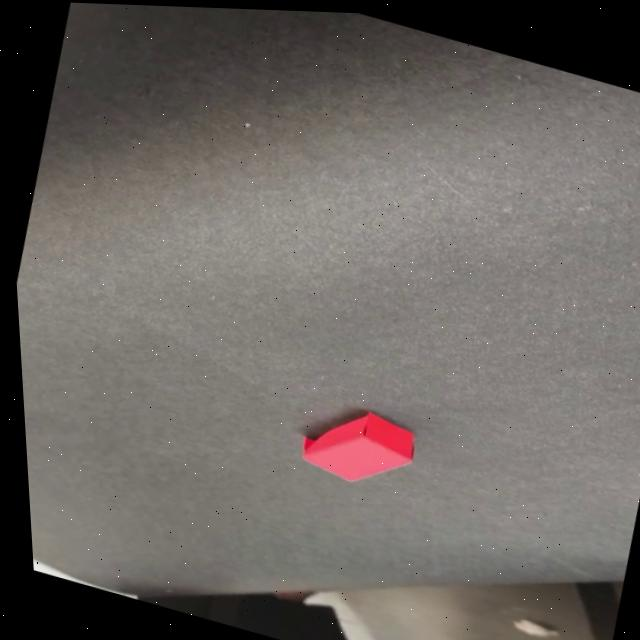red block: (294, 394, 425, 499)
